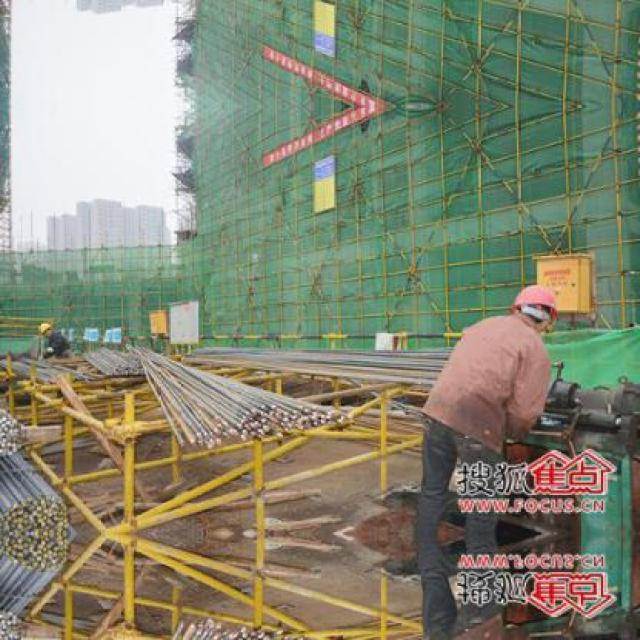helmet: (510, 283, 561, 332), (35, 320, 57, 340)
